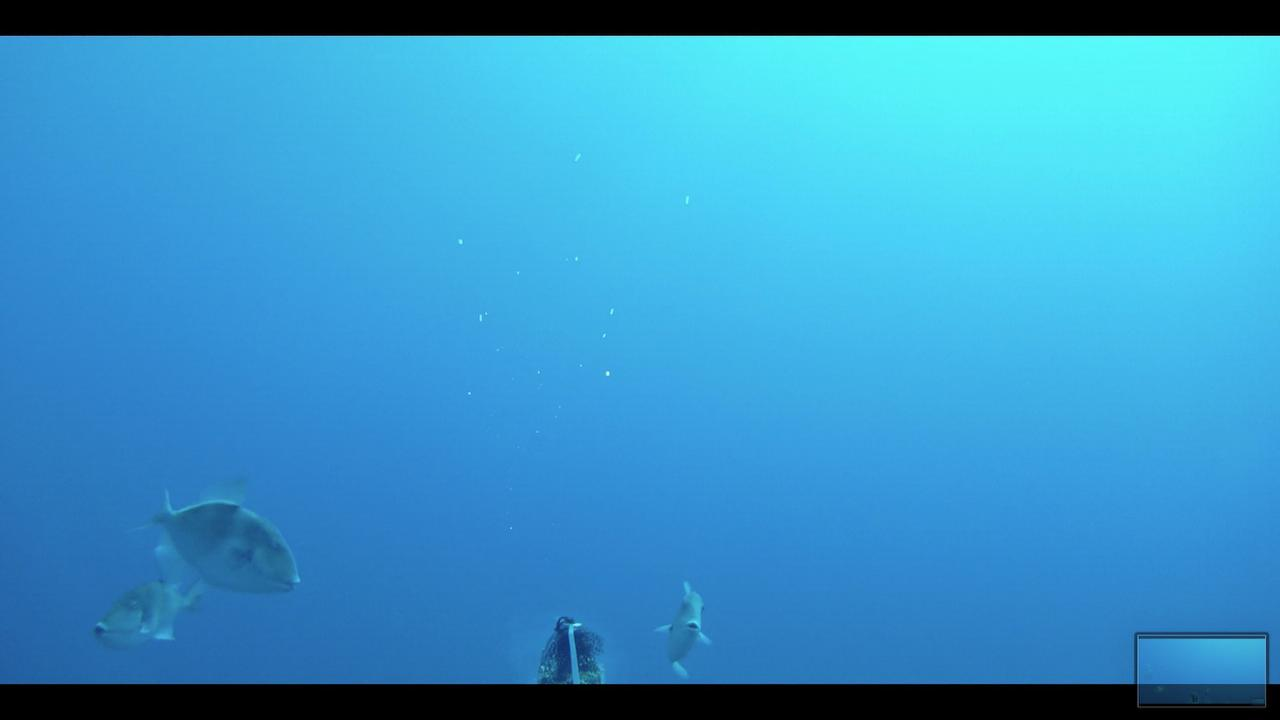balistes: (130, 477, 311, 598), (94, 566, 213, 645), (648, 578, 736, 680)
